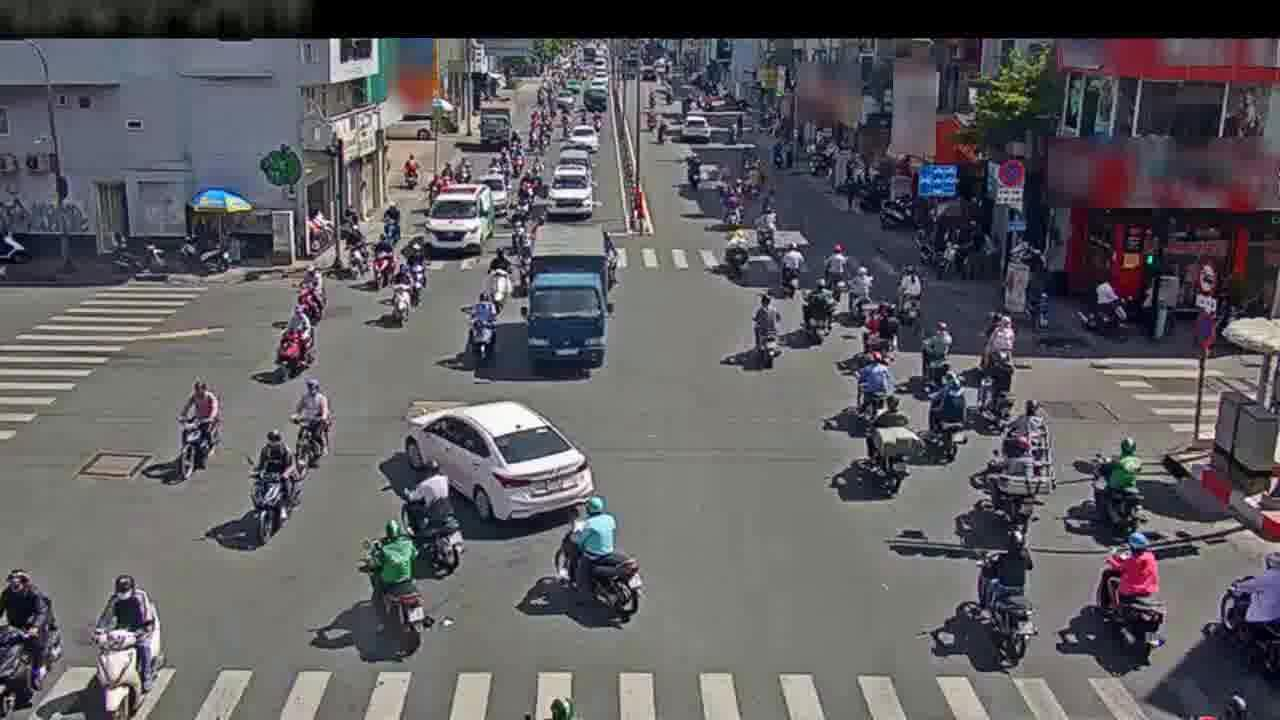8: (528, 235, 615, 368)
container: (428, 402, 578, 524), (426, 184, 492, 252), (550, 166, 596, 221), (665, 107, 703, 142)
motorbike: (82, 579, 165, 708), (1095, 530, 1167, 657), (557, 504, 636, 619), (1, 564, 63, 704), (976, 526, 1032, 665), (1215, 556, 1273, 688), (367, 521, 420, 648), (1081, 444, 1150, 541), (407, 469, 463, 581), (247, 424, 297, 545), (852, 405, 914, 501), (976, 432, 1033, 535), (1007, 415, 1056, 512), (173, 381, 217, 483), (925, 365, 962, 469), (851, 350, 897, 433), (295, 375, 330, 479), (976, 347, 1011, 438), (982, 313, 1021, 394), (276, 303, 312, 386), (467, 283, 496, 371), (918, 316, 950, 395), (857, 302, 892, 369), (751, 295, 781, 373), (337, 223, 374, 286), (294, 265, 328, 329), (390, 256, 418, 333), (800, 279, 829, 351), (367, 223, 399, 288), (772, 237, 808, 294), (894, 263, 926, 327), (840, 262, 871, 327), (490, 241, 516, 308), (721, 224, 751, 280), (822, 244, 849, 305), (751, 200, 780, 255), (713, 182, 737, 231), (684, 156, 704, 195)
